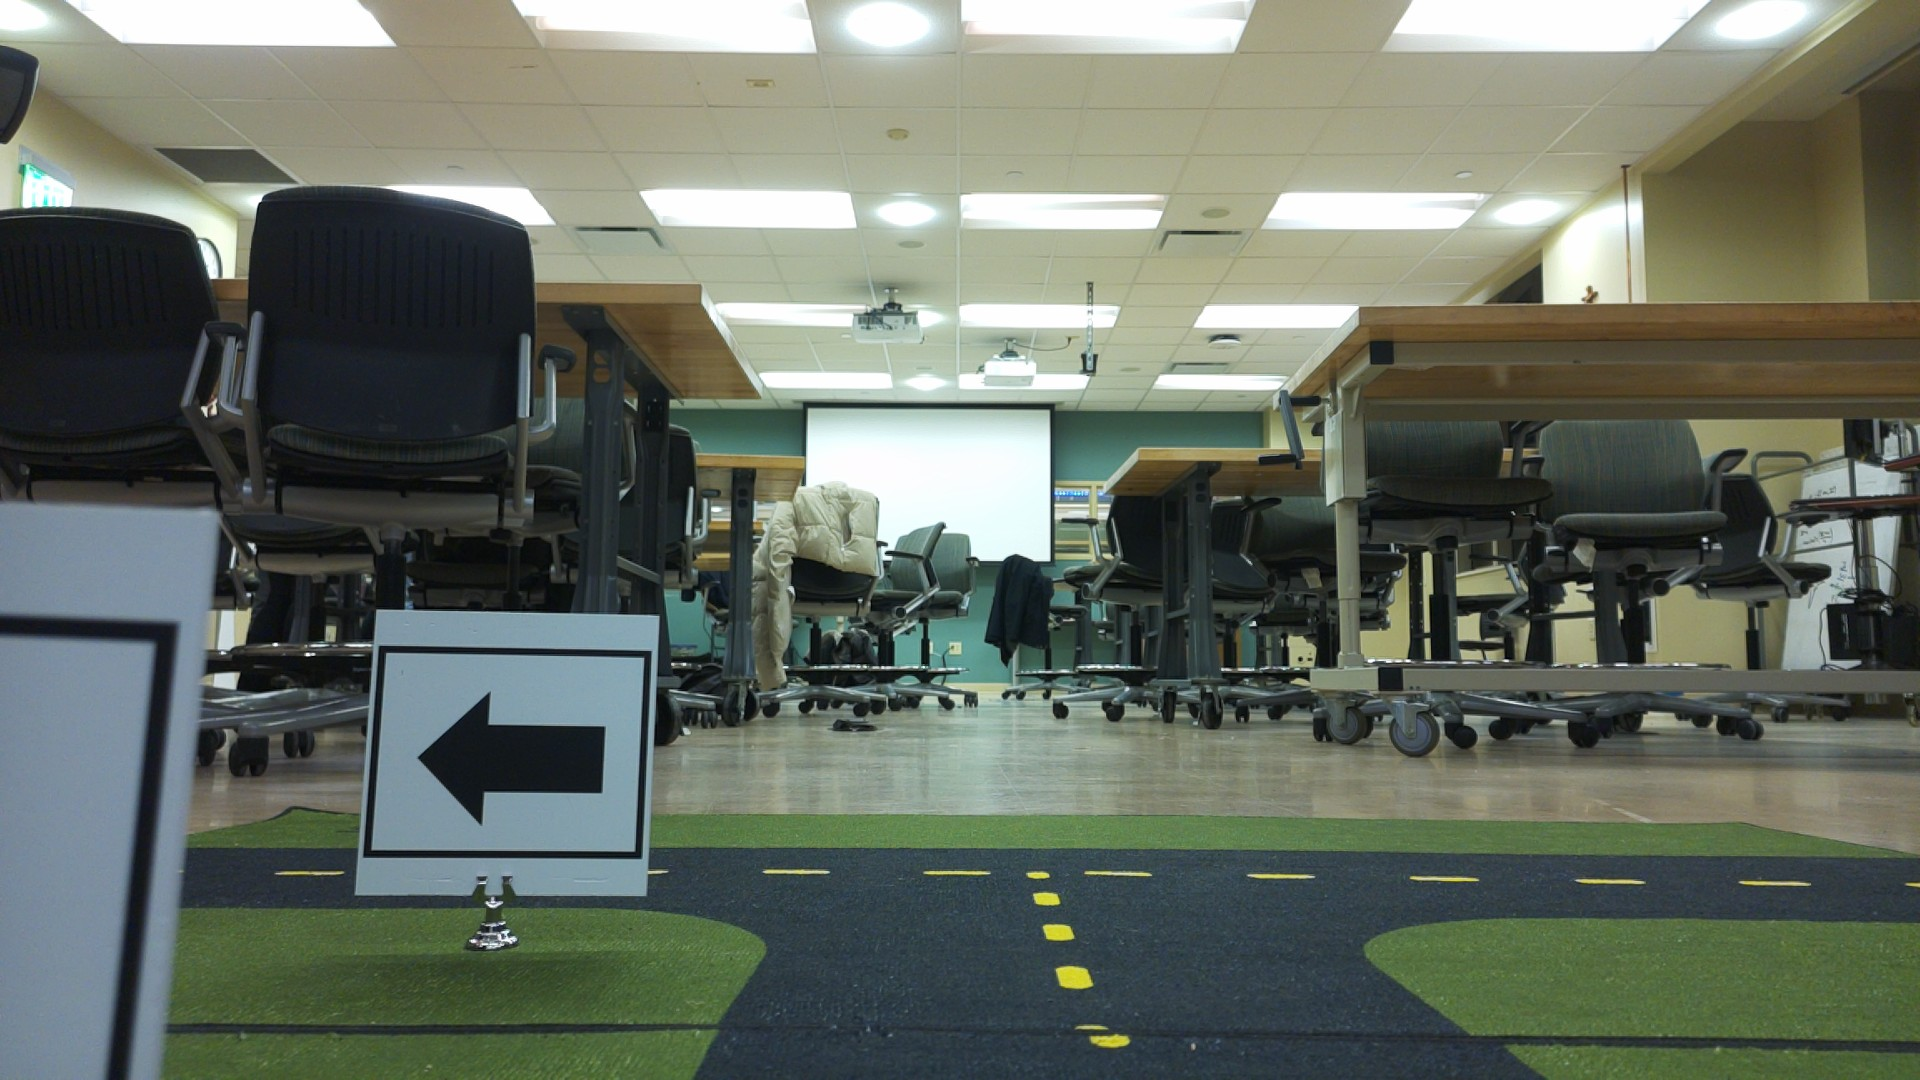turnleft: (369, 621, 644, 893)
